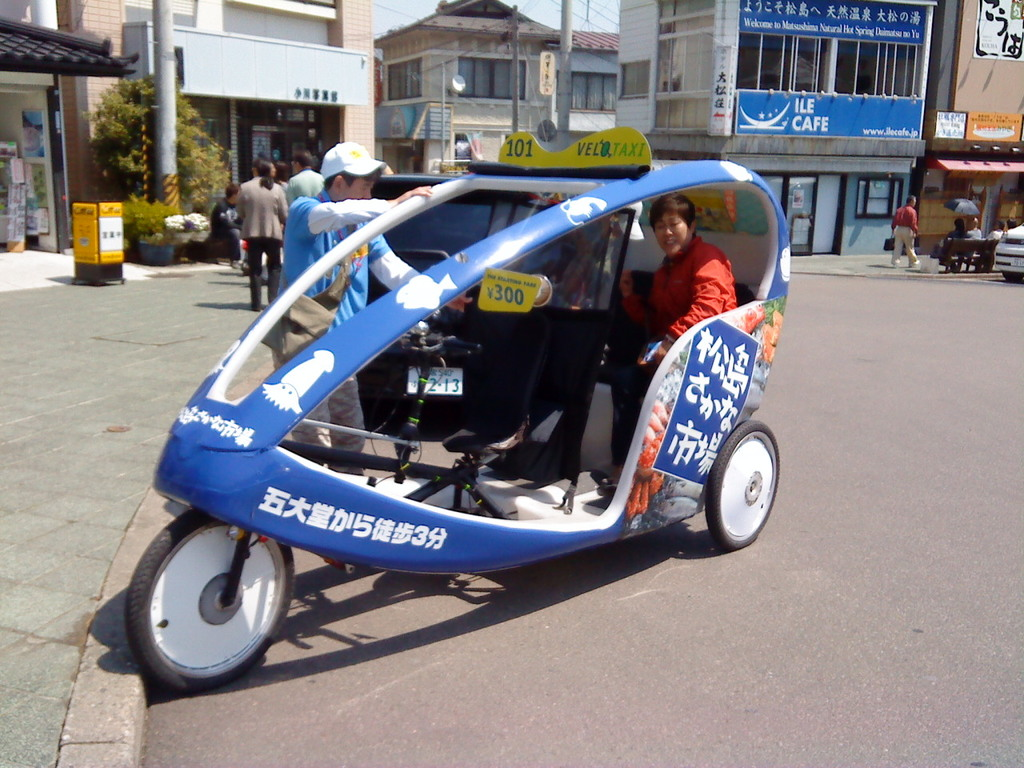car: (110, 111, 829, 715)
